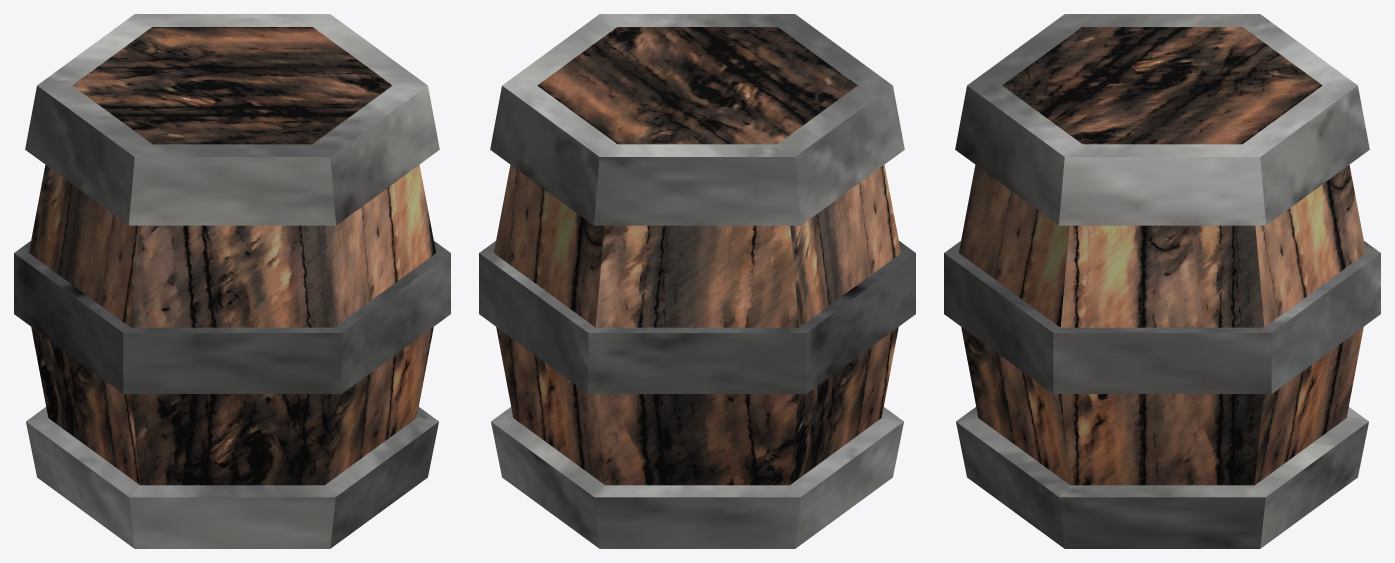
Rendered from Barrel.fbx.
The picture shows the model from 3 angles, left to right: view 1: azimuth 30°, elevation 25°; view 2: azimuth 150°, elevation 25°; view 3: azimuth 270°, elevation 25°; orthographic projection.
Visible parts, largest first — view 1: Barrel; view 2: Barrel; view 3: Barrel.
Boxes of the visible parts, x1,y1,x2,y2 form: Barrel: (14, 14, 450, 548); Barrel: (479, 14, 915, 548); Barrel: (944, 14, 1380, 548).
Bounding box in the file's own units: 87.48 × 100 × 101.
Materials: 2 (2 with a texture image).
